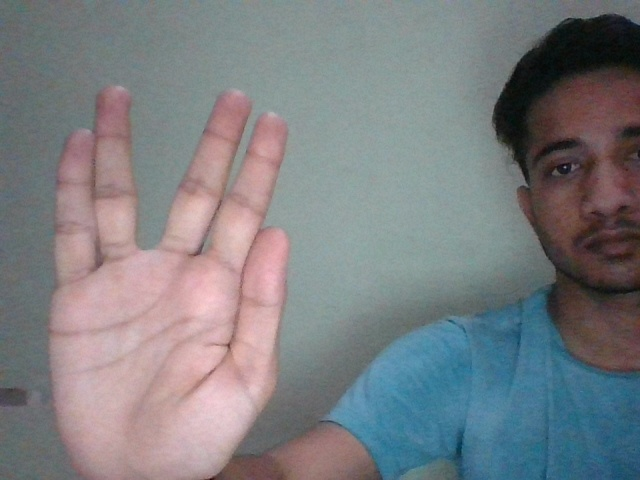livelong: (48, 83, 287, 480)
